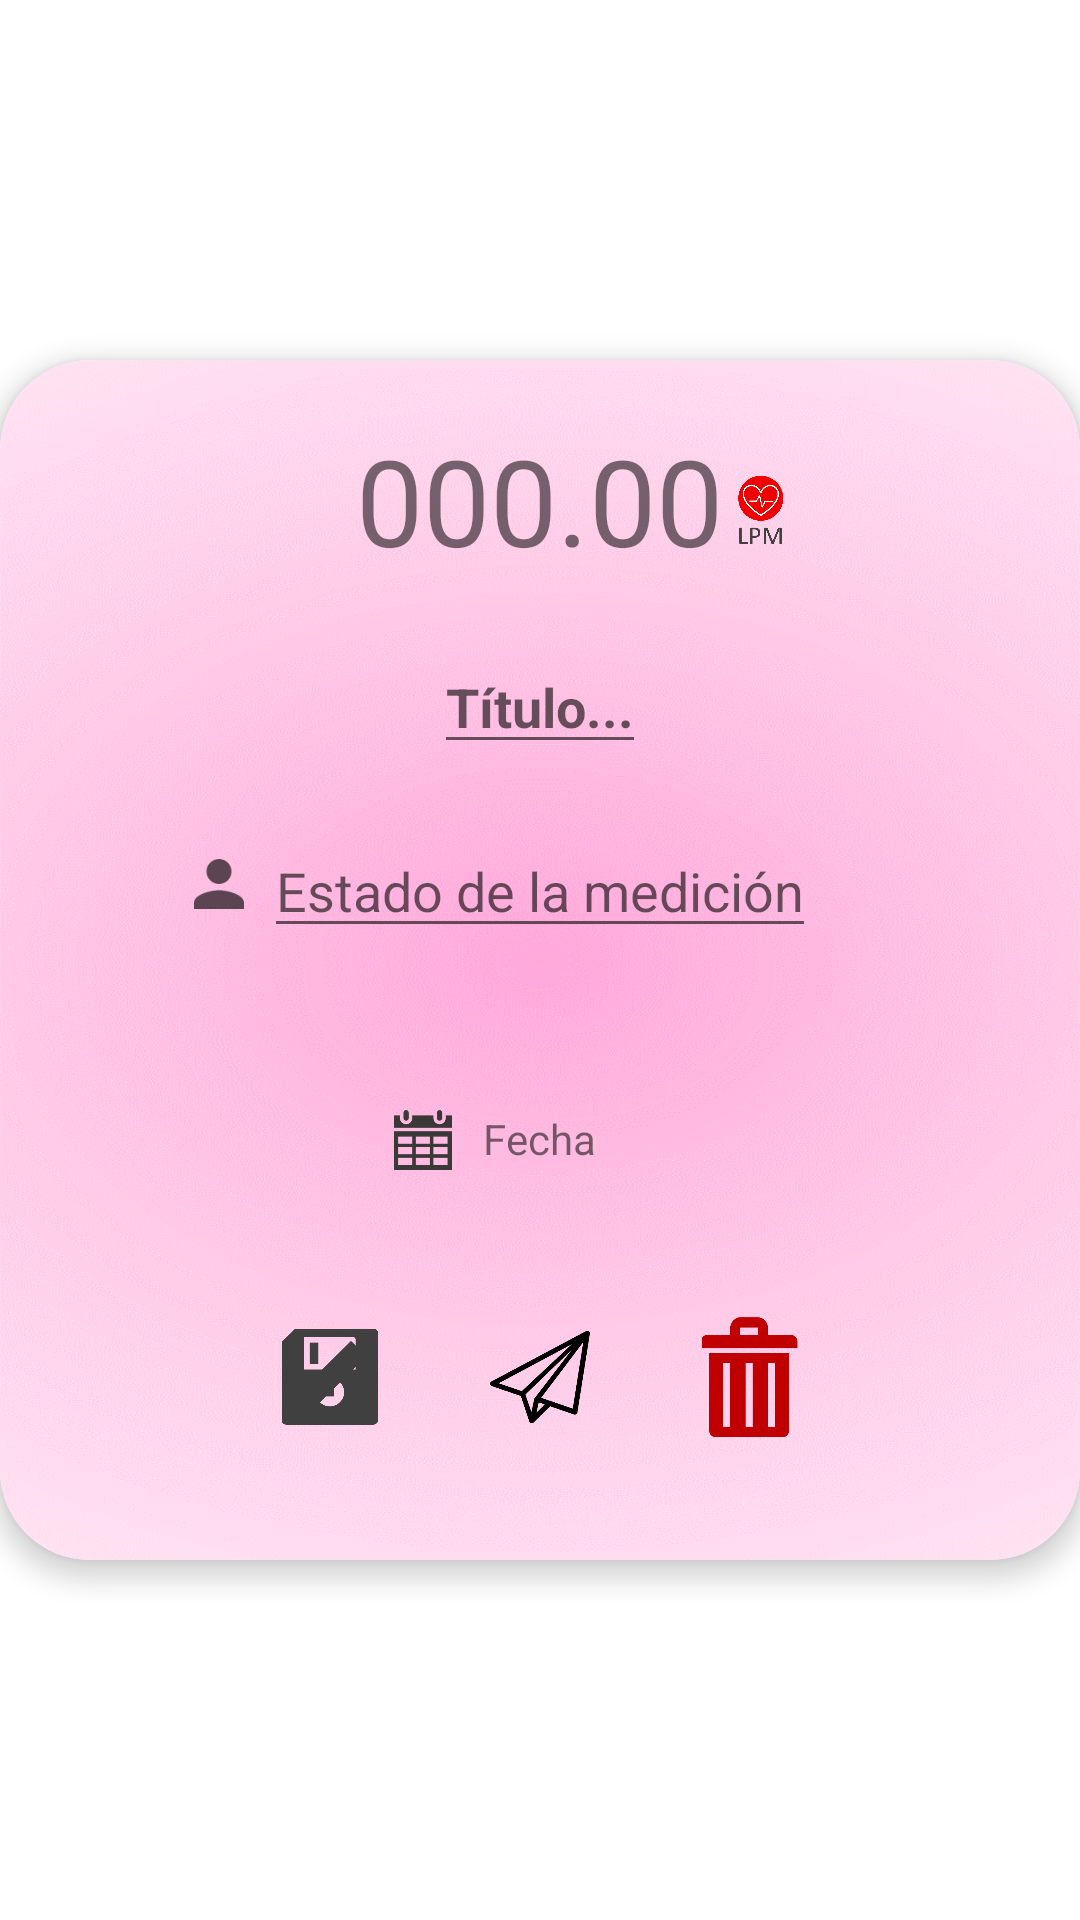

Icon click points for this 1080px×1920px phone screenshot, format (x=x, y=y):
enviar: (x=540, y=1377)
iconusersimple: (x=219, y=884)
